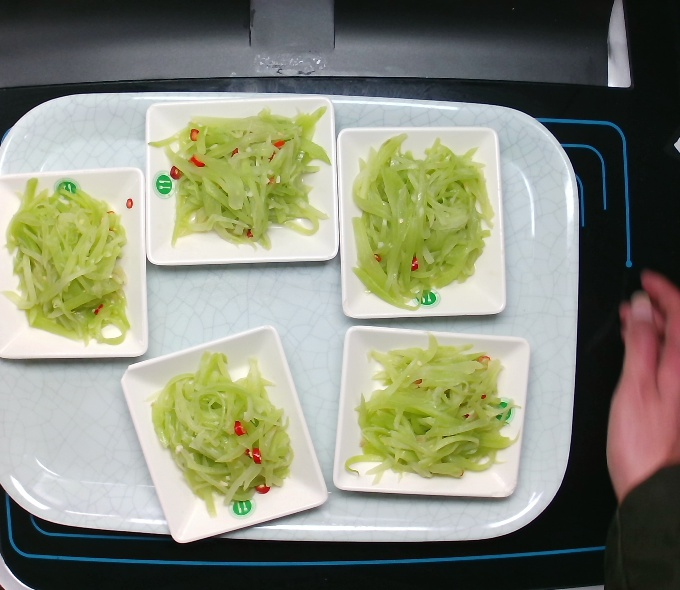wcq-YanWoSun: (347, 136, 507, 307), (151, 108, 334, 254), (351, 340, 520, 486), (140, 354, 297, 511), (1, 177, 141, 349)
